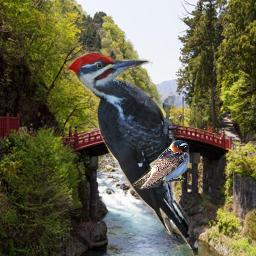Swallow: (133, 140, 190, 190)
Woodpecker: (65, 51, 198, 255)
